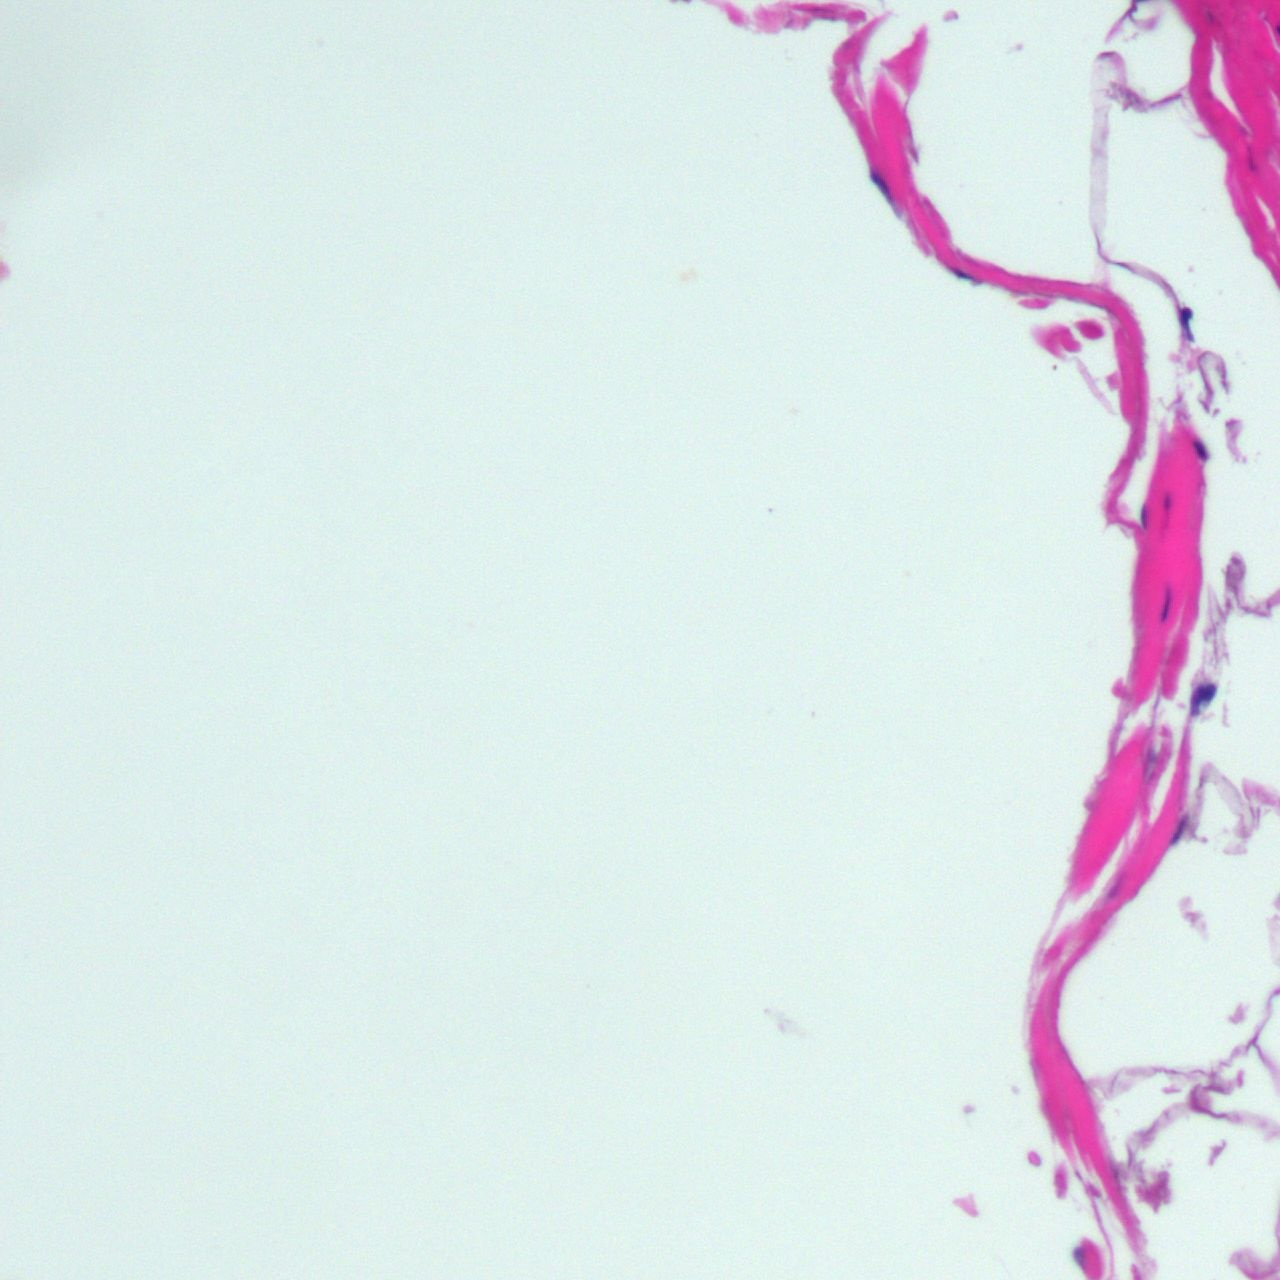nucleus-HE: (865, 166, 898, 211), (1187, 679, 1216, 717), (1166, 815, 1189, 845), (1189, 436, 1212, 461), (949, 267, 976, 284), (1182, 306, 1192, 339), (1160, 585, 1170, 621), (1162, 492, 1173, 509), (1141, 502, 1148, 526)
